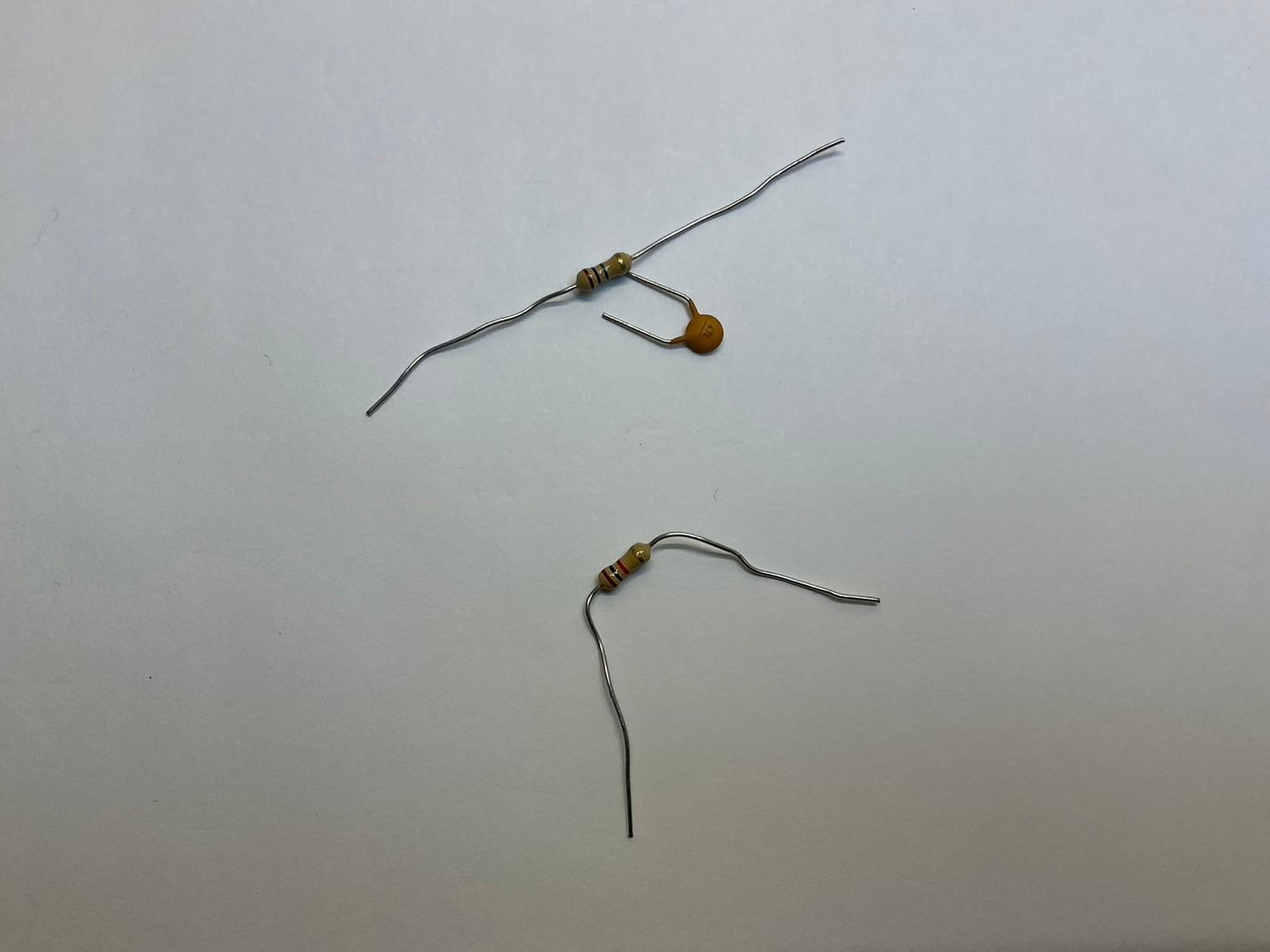resistor: (595, 539, 649, 594), (574, 252, 633, 292)
